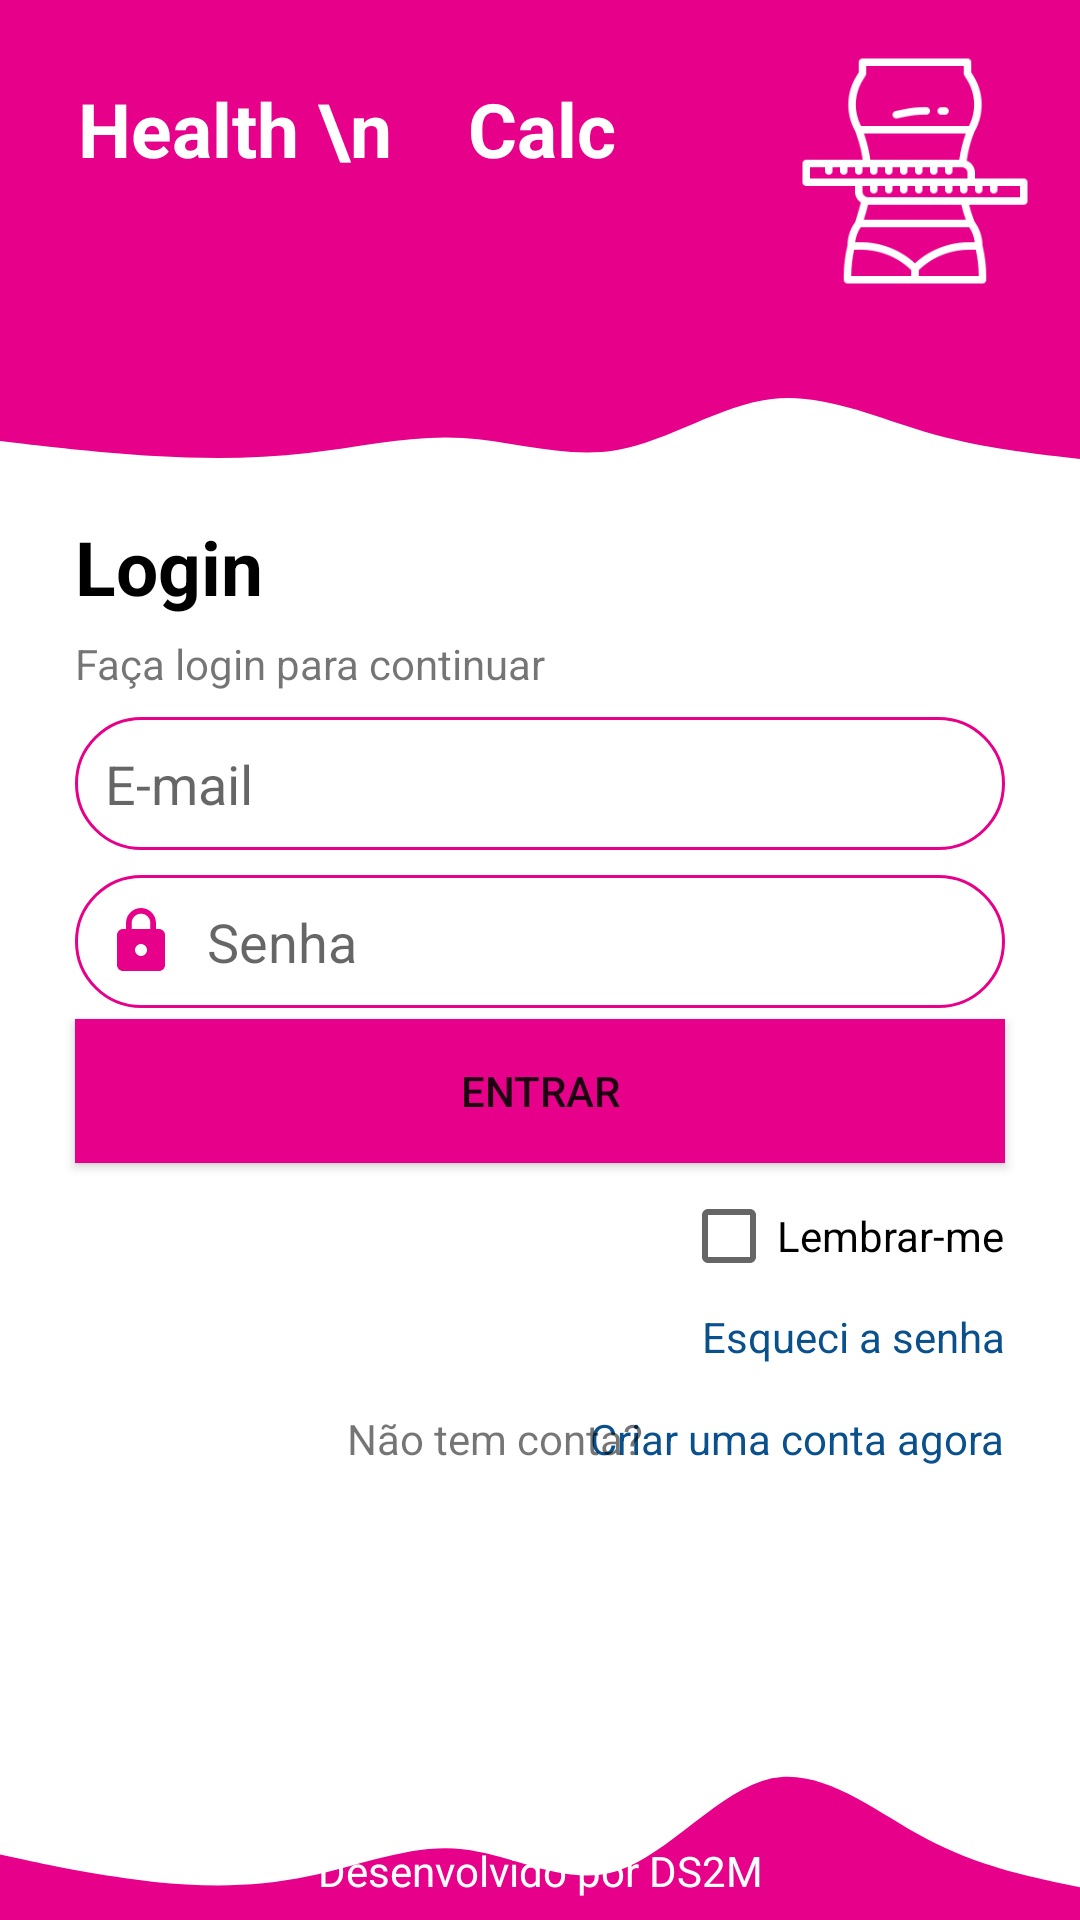

Named icons in this screenshot (1080×1920) and their bounding boxes, (x1, y1, x2, y2):
imc branco: (802, 58, 1028, 284)
